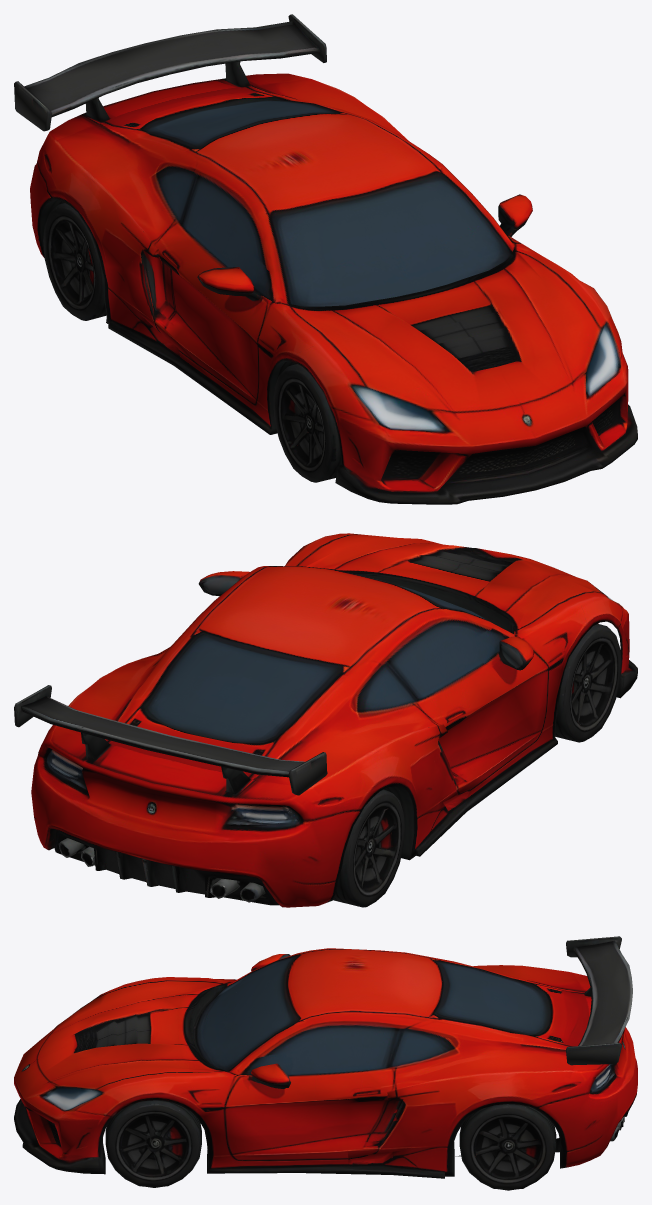
Rendered from blitz.glb.
3 views of the same model, one above another, from view 1: azimuth 30°, elevation 25°; view 2: azimuth 150°, elevation 25°; view 3: azimuth 270°, elevation 25° (orthographic). The views are drawn at different scales.
Visible parts, largest first — view 1: BodyPaint, StockWheel_FL, StockWheel_RL; view 2: BodyPaint, StockWheel_FL, StockWheel_RL; view 3: BodyPaint, StockWheel_FR, StockWheel_RR.
Boxes of the visible parts, left/top/right/bottom form: BodyPaint: left=14, top=14, right=637, bottom=504; StockWheel_FL: left=273, top=364, right=341, bottom=482; StockWheel_RL: left=43, top=203, right=106, bottom=320; BodyPaint: left=14, top=533, right=637, bottom=907; StockWheel_FL: left=555, top=624, right=621, bottom=742; StockWheel_RL: left=333, top=789, right=405, bottom=907; BodyPaint: left=14, top=936, right=637, bottom=1178; StockWheel_FR: left=105, top=1100, right=201, bottom=1187; StockWheel_RR: left=459, top=1104, right=556, bottom=1190.
Size of the model in its own units: 1.77 by 1.04 by 3.7.
5 materials, 5 textured.
